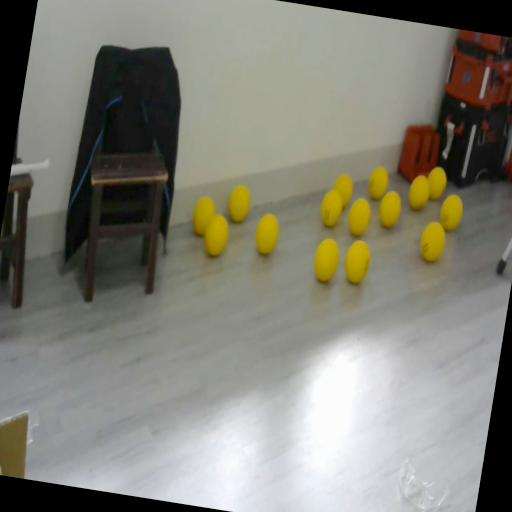FUEL: (309, 234, 342, 284), (341, 237, 373, 286), (200, 210, 232, 258), (250, 210, 282, 257), (416, 220, 448, 264), (344, 194, 374, 238), (224, 180, 254, 224), (376, 187, 404, 229), (438, 192, 466, 232), (424, 163, 450, 201), (406, 172, 432, 210), (330, 172, 355, 210), (365, 164, 390, 200)
